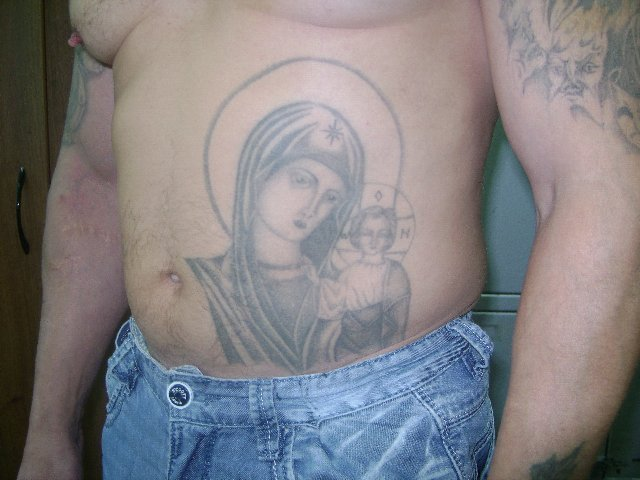tatu2_bogorodica: (199, 66, 436, 375)
